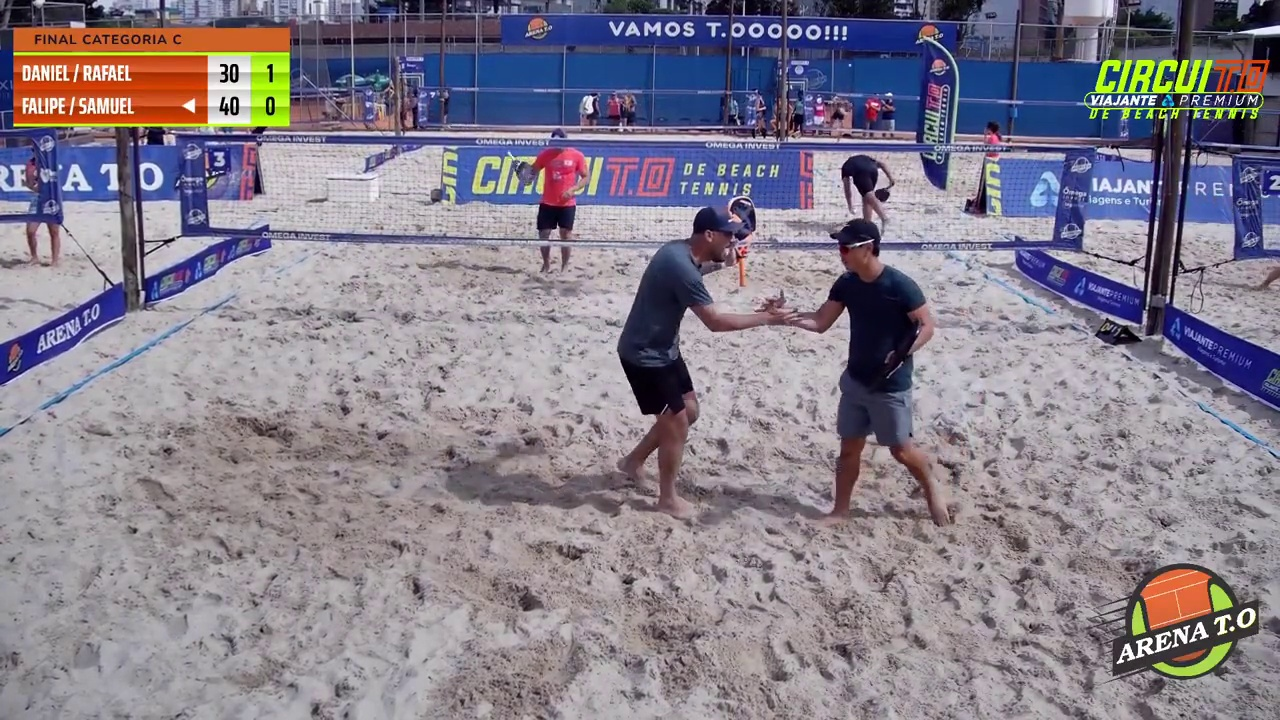court_line: (639, 0, 803, 361)
